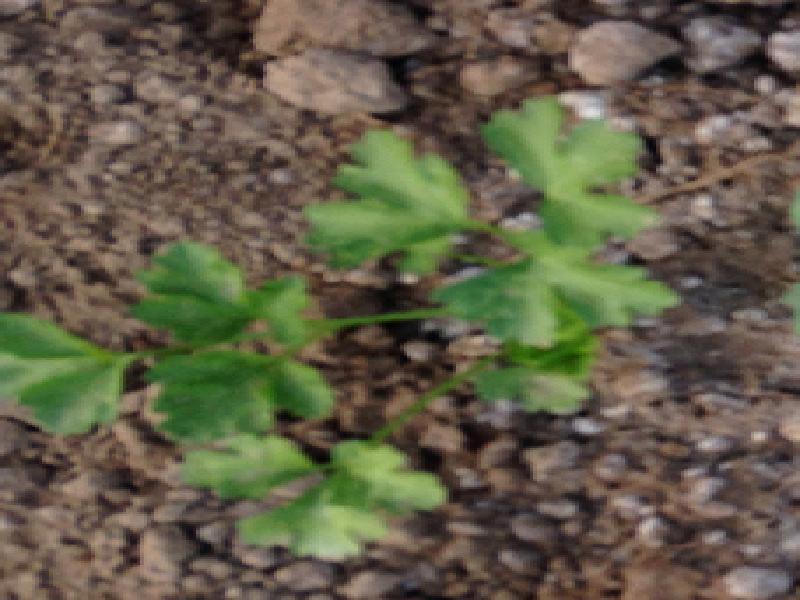radish: (119, 0, 800, 573)
